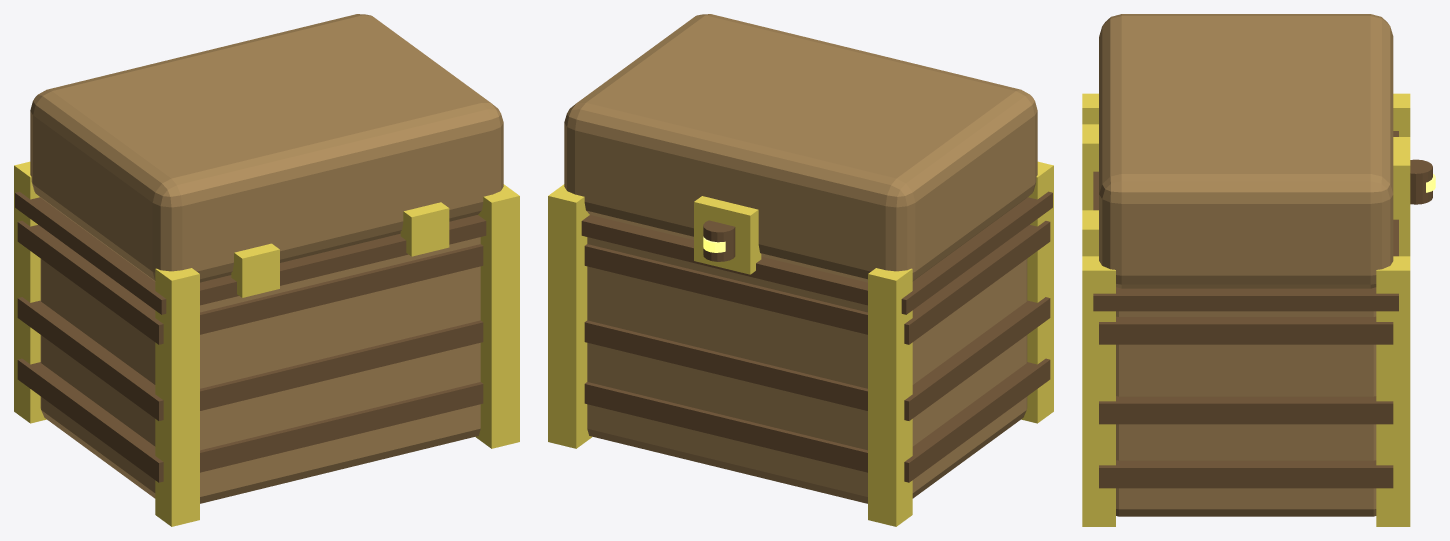
Rendered from chest.glb.
The picture shows the model from 3 angles, left to right: view 1: azimuth 30°, elevation 25°; view 2: azimuth 150°, elevation 25°; view 3: azimuth 270°, elevation 25°; orthographic projection. The views are drawn at different scales.
Parts seen in each view (by area): view 1: Cube.001, Cube, Cube.003, Cube.002, Cube.004, Cube.008, Cube.009, Cube.005, Cube.006, Cube.012, Cube.011; view 2: Cube.001, Cube, Cube.003, Cube.002, Cube.004, Cube.006, Cube.007, Cube.005, Cube.008, Cube.010, Cylinder; view 3: Cube.001, Cube, Cube.002, Cube.003, Cube.004, Cube.007, Cube.005, Cube.009, Cube.010, Cube.006, Cube.011, Cylinder (+2 smaller).
Boxes of the visible parts, left/top/right/bottom form: Cube.001: left=30, top=14, right=503, bottom=282; Cube: left=40, top=237, right=480, bottom=503; Cube.003: left=17, top=297, right=483, bottom=420; Cube.002: left=17, top=358, right=483, bottom=482; Cube.004: left=17, top=221, right=483, bottom=344; Cube.008: left=155, top=268, right=199, bottom=526; Cube.009: left=475, top=184, right=519, bottom=448; Cube.005: left=15, top=191, right=486, bottom=314; Cube.006: left=14, top=161, right=46, bottom=423; Cube.012: left=400, top=202, right=449, bottom=256; Cube.011: left=231, top=243, right=279, bottom=297; Cube.001: left=564, top=14, right=1037, bottom=282; Cube: left=587, top=237, right=1027, bottom=503; Cube.003: left=584, top=297, right=1050, bottom=420; Cube.002: left=584, top=358, right=1050, bottom=482; Cube.004: left=584, top=221, right=1050, bottom=344; Cube.006: left=868, top=268, right=912, bottom=526; Cube.007: left=548, top=184, right=592, bottom=448; Cube.005: left=581, top=191, right=1052, bottom=314; Cube.008: left=1021, top=161, right=1053, bottom=423; Cube.010: left=694, top=196, right=761, bottom=274; Cylinder: left=703, top=220, right=735, bottom=261; Cube.001: left=1099, top=14, right=1393, bottom=288; Cube: left=1116, top=311, right=1376, bottom=516; Cube.002: left=1099, top=460, right=1393, bottom=488; Cube.003: left=1099, top=396, right=1393, bottom=424; Cube.004: left=1099, top=316, right=1393, bottom=344; Cube.007: left=1376, top=256, right=1410, bottom=526; Cube.005: left=1093, top=131, right=1398, bottom=311; Cube.009: left=1082, top=256, right=1115, bottom=526; Cube.010: left=1393, top=137, right=1410, bottom=227; Cube.006: left=1393, top=93, right=1410, bottom=256; Cube.011: left=1082, top=124, right=1098, bottom=184; Cylinder: left=1410, top=159, right=1432, bottom=204.
Bounding box in the file's own units: 0.76 × 0.67 × 0.625.
